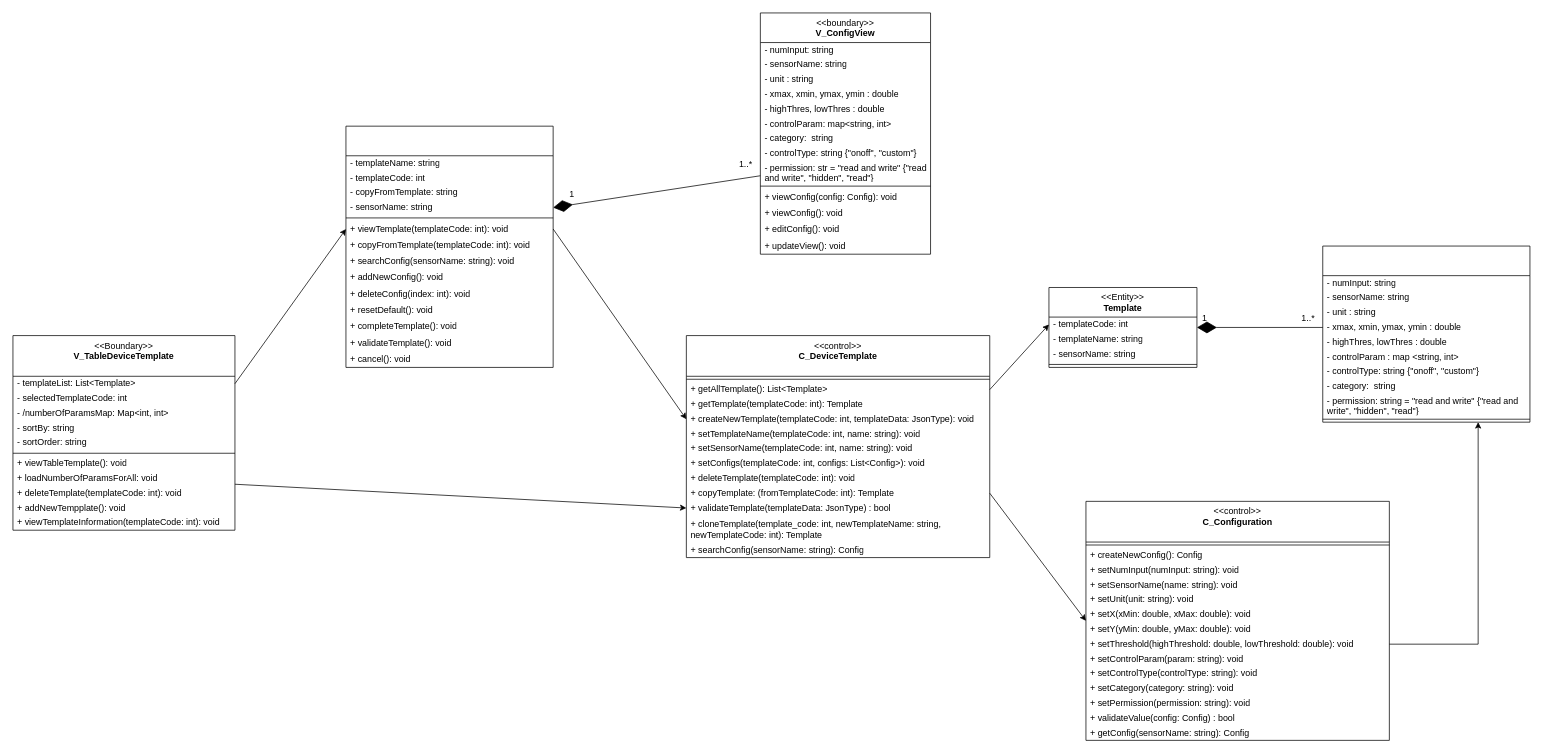
Some shapes in this 1543 by 753 pixel diagram are drawn without their labels. The shapes that lost their labels are listed below. From the top down, each one's box as (x1, y1, x2, y2) in pixels, then its label:
(345, 125, 553, 367): <<boundary>> V_DeviceConfigTemplate
(1322, 245, 1530, 422): <<Entity>> Config
